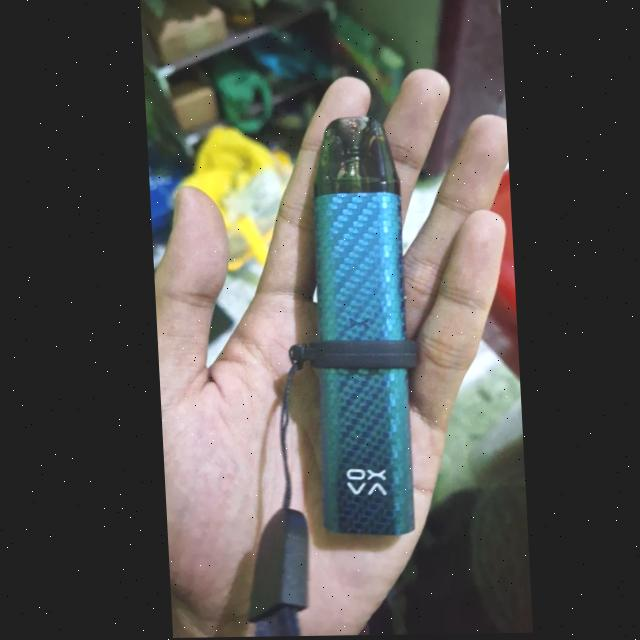vape: (299, 117, 412, 537)
